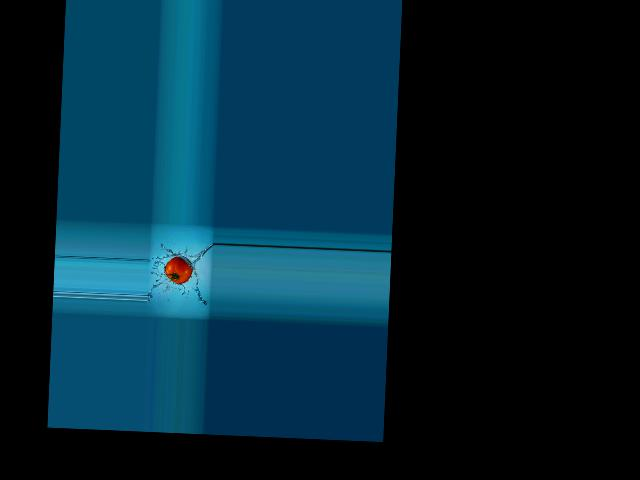tomato: (164, 256, 192, 284)
